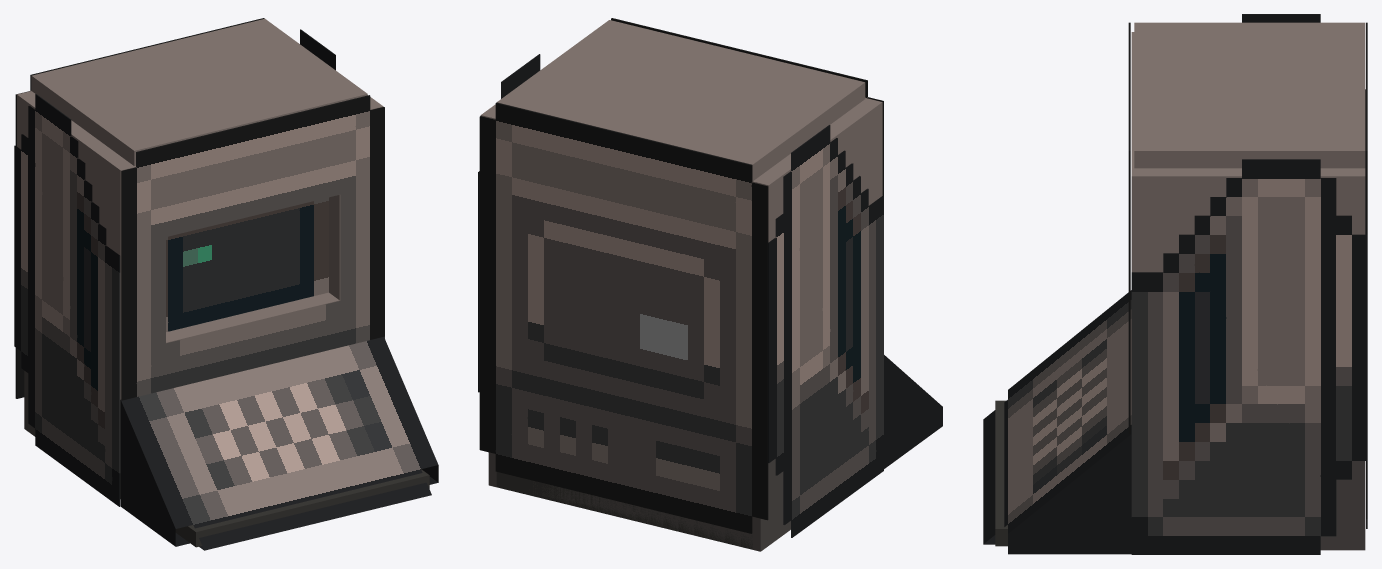
File: CMU3DFactionTerminalEast.glb
The picture shows the model from 3 angles, left to right: view 1: azimuth 30°, elevation 25°; view 2: azimuth 150°, elevation 25°; view 3: azimuth 270°, elevation 25°; orthographic projection. The views are drawn at different scales.
Parts seen in each view (by area): view 1: original front bezel, source keyboard on sloping deck, original left monitor profile, stepped crown, recessed display glass, upper monitor bezel, keyboard lower foot, lower monitor bezel, right monitor bezel, original rear service cover, original right monitor profile; view 2: original rear service cover, original left monitor profile, stepped crown, rear base and hinge, upper monitor bezel, source keyboard on sloping deck, keyboard lower foot, original right monitor profile, original front bezel; view 3: original right monitor profile, stepped crown, source keyboard on sloping deck, upper monitor bezel, rear base and hinge, keyboard lower foot, original front bezel, original left monitor profile, monitor rear casting, original rear service cover.
Part boxes in pixels (x1,y1,x2,y2): original front bezel: (121, 95, 384, 400); source keyboard on sloping deck: (120, 337, 438, 550); original left monitor profile: (14, 94, 120, 506); stepped crown: (31, 18, 367, 165); recessed display glass: (166, 197, 328, 331); upper monitor bezel: (17, 93, 383, 246); keyboard lower foot: (175, 469, 429, 547); lower monitor bezel: (166, 292, 339, 343); right monitor bezel: (329, 195, 340, 300); original rear service cover: (15, 18, 264, 398); original right monitor profile: (300, 29, 384, 338); original rear service cover: (479, 102, 768, 533); original left monitor profile: (768, 125, 883, 537); stepped crown: (497, 20, 865, 181); rear base and hinge: (488, 452, 790, 551); upper monitor bezel: (480, 98, 882, 242); source keyboard on sloping deck: (884, 355, 942, 468); keyboard lower foot: (496, 472, 752, 549); original right monitor profile: (478, 54, 540, 392); original front bezel: (611, 18, 883, 195); original right monitor profile: (1131, 159, 1367, 554); stepped crown: (1134, 22, 1365, 168); source keyboard on sloping deck: (983, 290, 1131, 554); upper monitor bezel: (1131, 32, 1365, 261); rear base and hinge: (1320, 461, 1365, 550); keyboard lower foot: (995, 400, 1007, 546); original front bezel: (1128, 22, 1130, 433); original left monitor profile: (1242, 14, 1365, 234); monitor rear casting: (1174, 168, 1365, 172); original rear service cover: (1366, 22, 1367, 528).
Size of what is drawn, in the model's own units: 0.5685 by 0.7188 by 0.634.
Materials: 8 (5 with a texture image).
